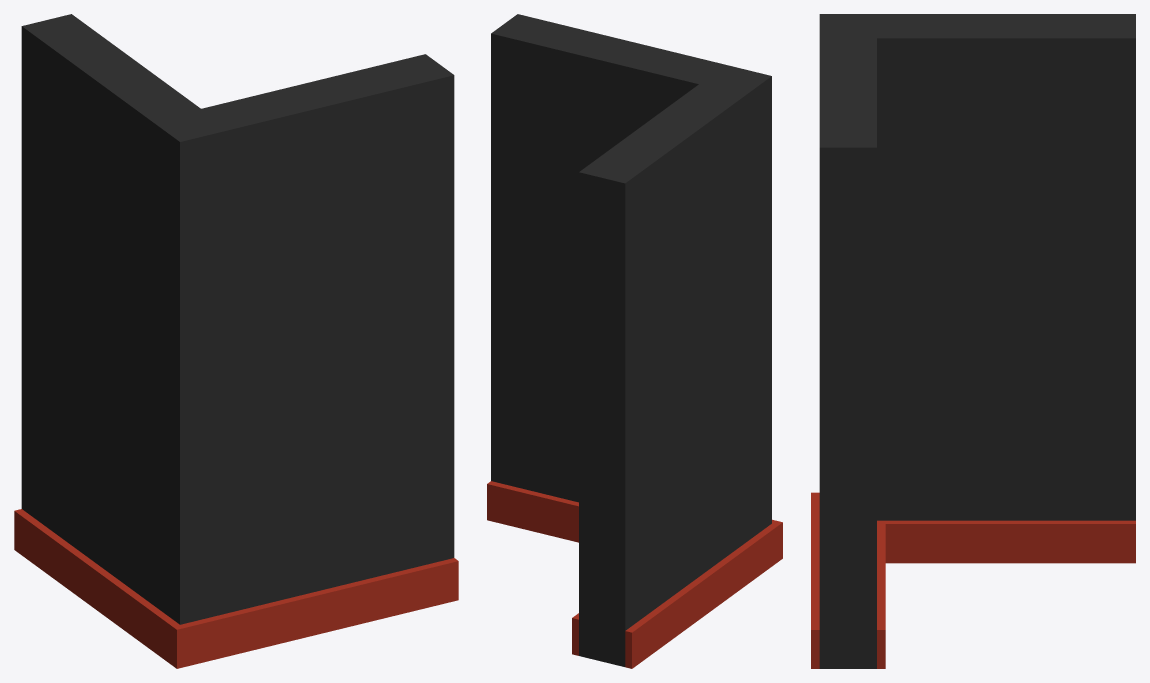
Rendered from CornerWall.fbx.
3 views of the same model, side by side, from view 1: azimuth 30°, elevation 25°; view 2: azimuth 150°, elevation 25°; view 3: azimuth 270°, elevation 25° (orthographic). The views are drawn at different scales.
Visible parts, largest first — view 1: WallCorner; view 2: WallCorner; view 3: WallCorner.
Boxes of the visible parts, left/top/right/bottom form: WallCorner: left=14, top=14, right=458, bottom=668; WallCorner: left=487, top=14, right=782, bottom=668; WallCorner: left=811, top=14, right=1135, bottom=668.
Size of the model in its own units: 113 by 200 by 113.
